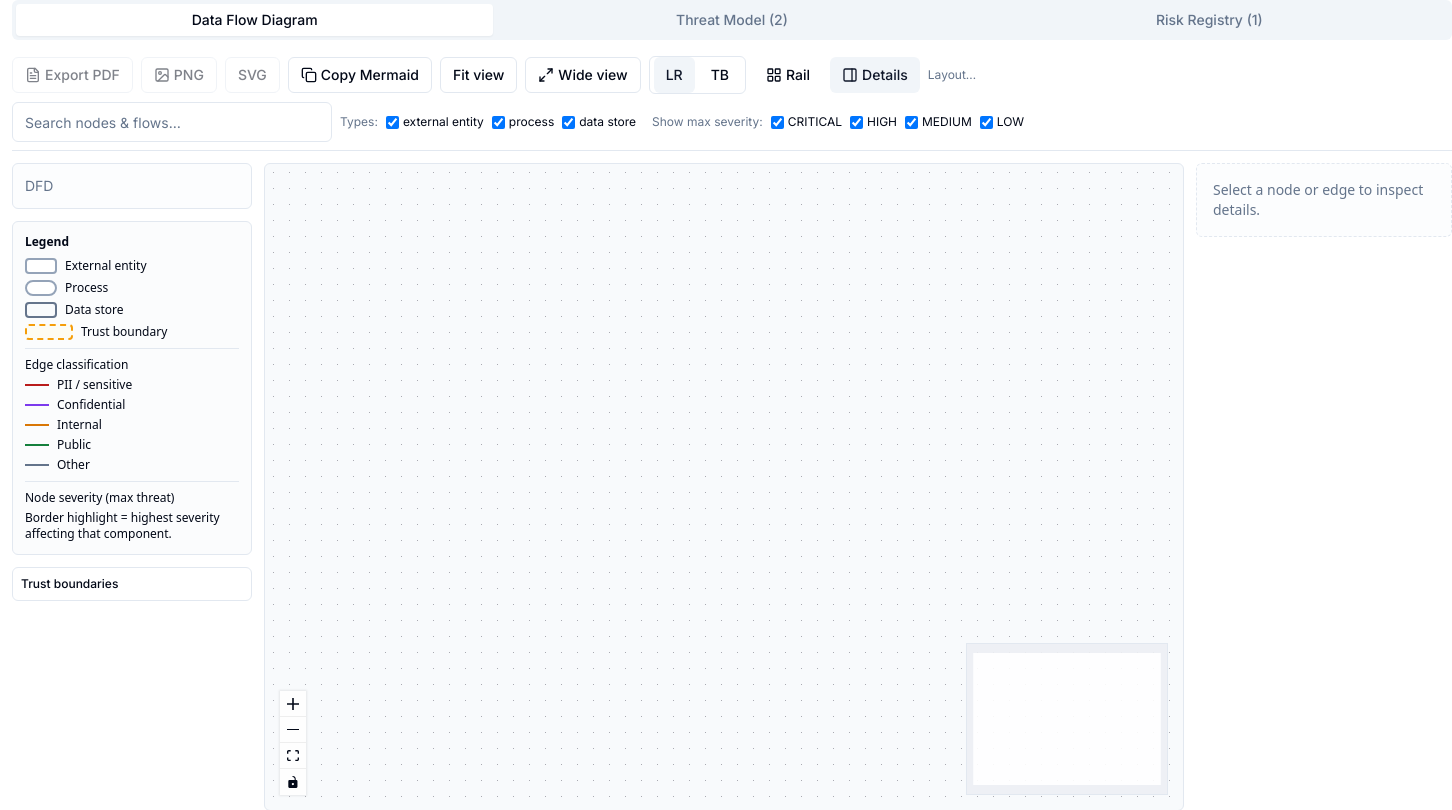
Test: <JobReport /> › shows Risk Registry not available when riskRegistry is null
Click the tab "Risk Registry (1)" at (1209, 20), box [971,4,1448,36]
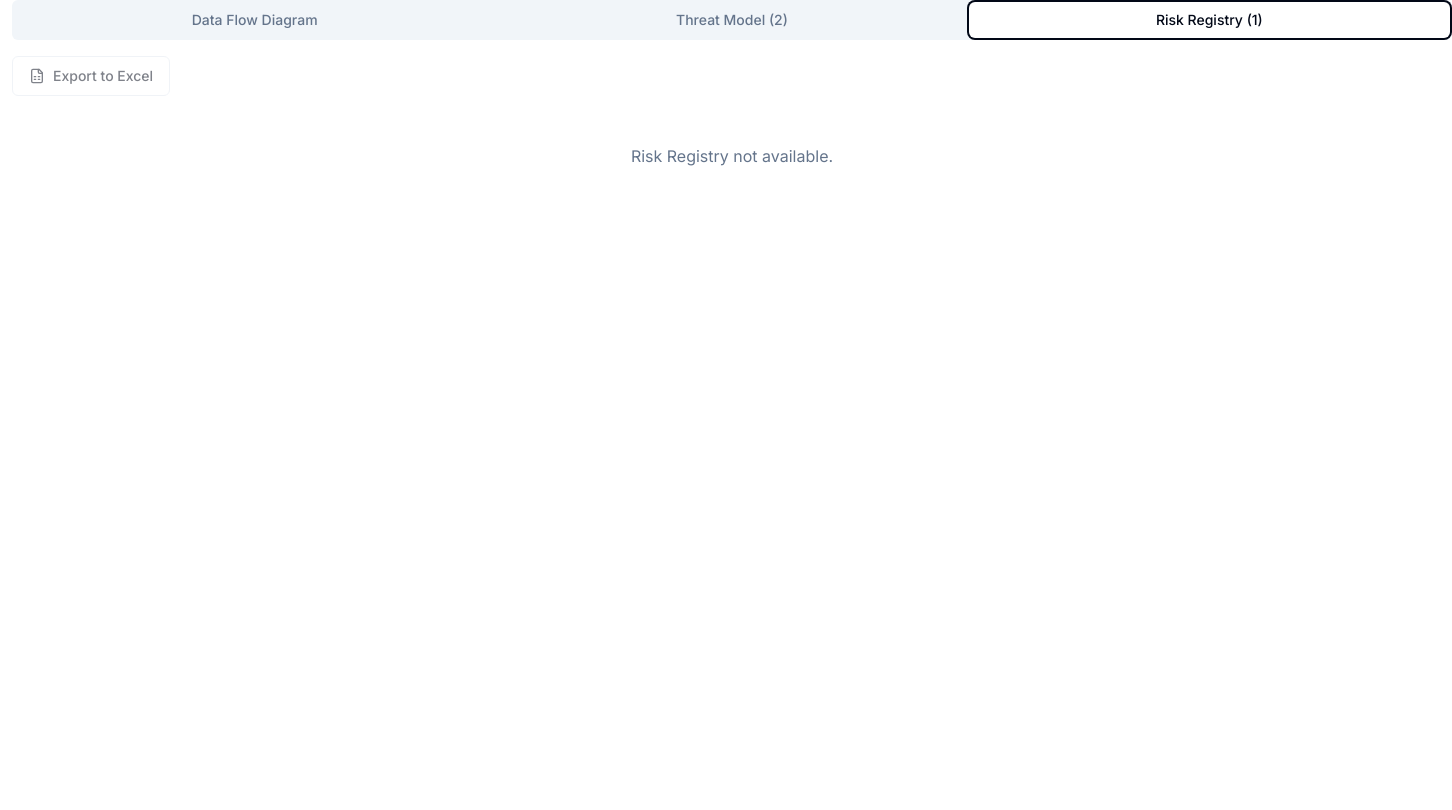
Check: the text "Risk Registry not available." is shown, box [631,146,833,166]
